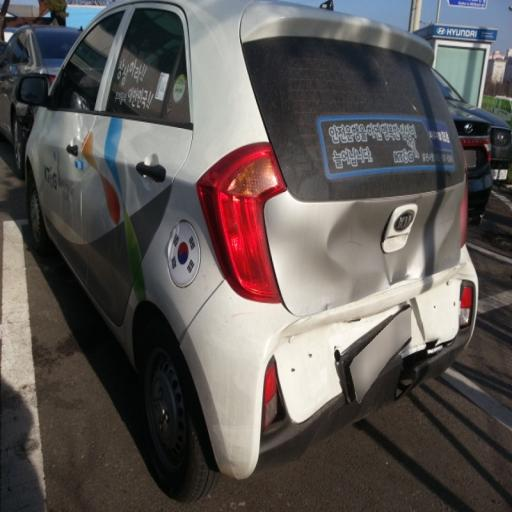broken: (191, 222, 472, 443)
